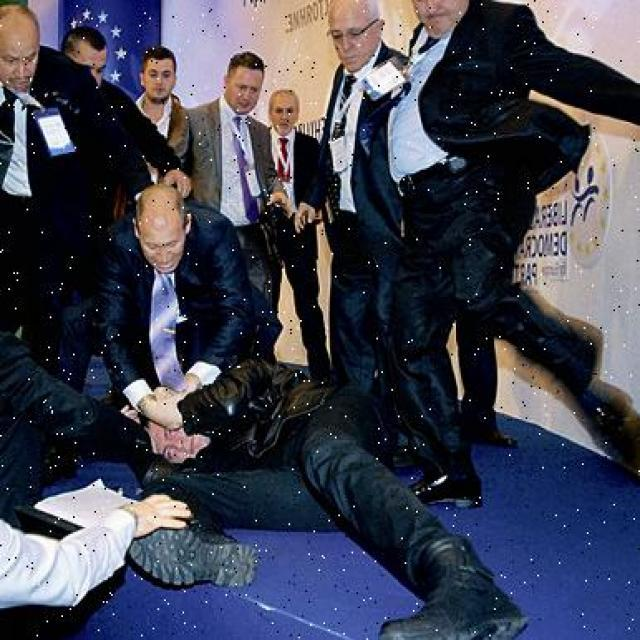fall: (168, 366, 500, 638)
